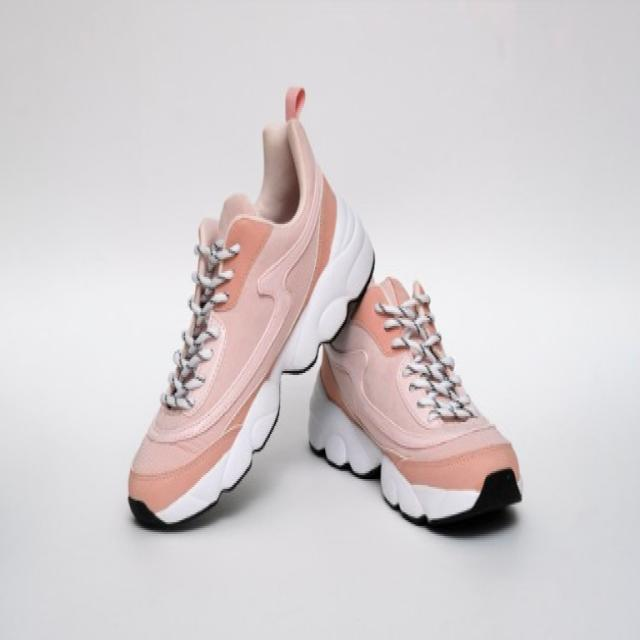shoe: (128, 106, 377, 536), (307, 267, 526, 536)
